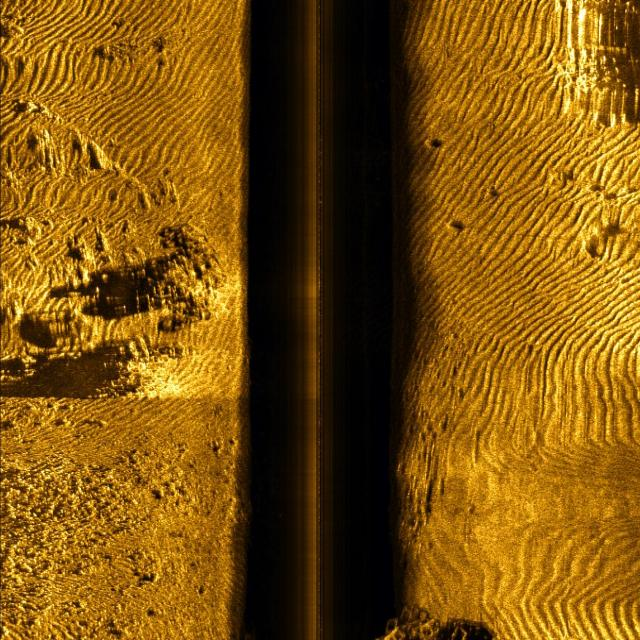artificial reef: (363, 596, 474, 640)
